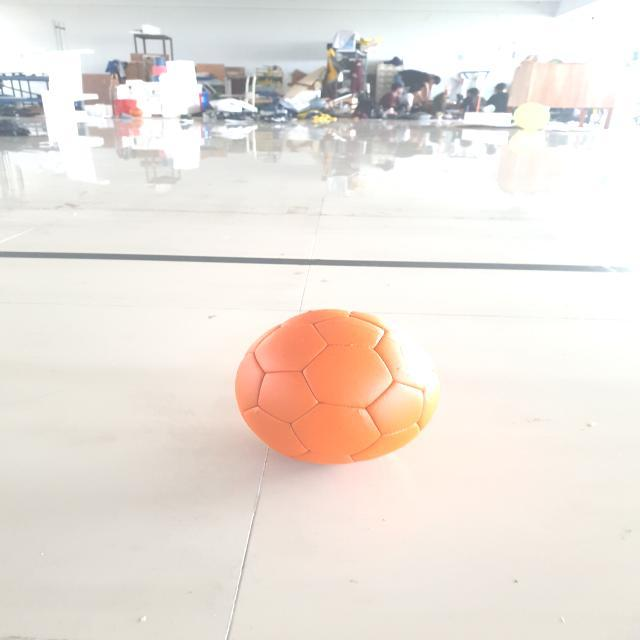bola: (232, 304, 445, 473)
